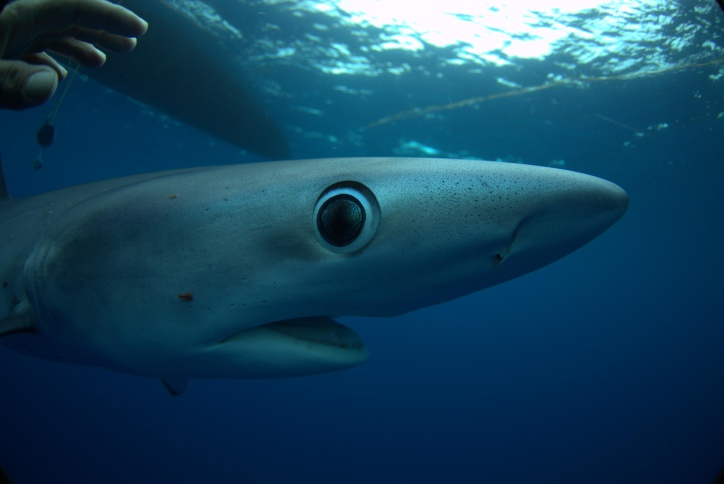Azul: (1, 154, 647, 407), (59, 129, 501, 302)
